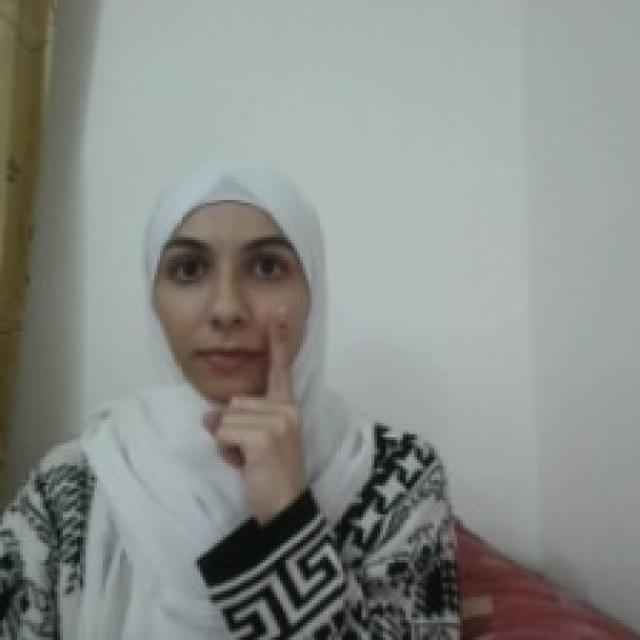mother: (194, 298, 309, 515)
